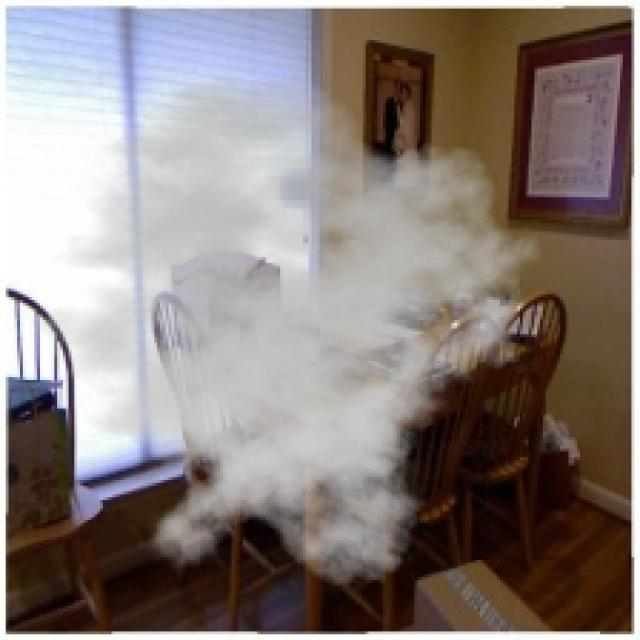Smoke: (6, 74, 554, 589)
